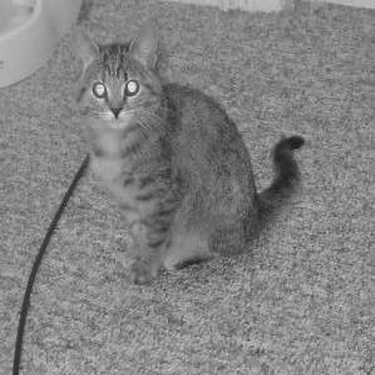cat: (47, 17, 303, 275)
